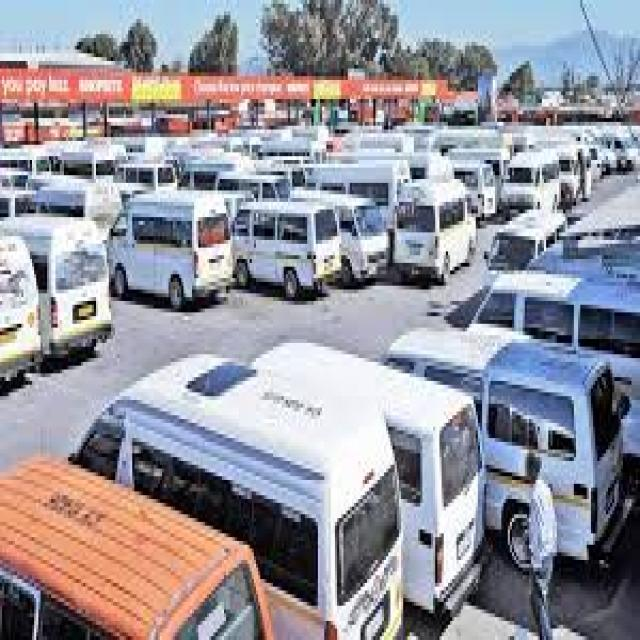MiniBus taxi: (104, 172, 234, 312), (39, 198, 120, 366), (224, 191, 339, 297), (392, 179, 478, 290), (337, 183, 390, 286), (495, 152, 565, 225)
Pedestrians: (512, 450, 563, 636)
